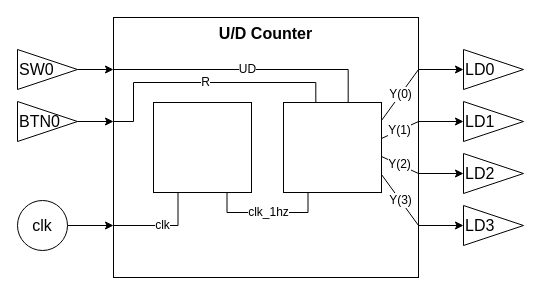
Image size: 541x295. Some labels were removed from this diagram. Here are the shapes that lost their labels. From the top down, the centre of each, then its label:
At pixel 202 147: "clock divider".
At pixel 332 147: "counter".
